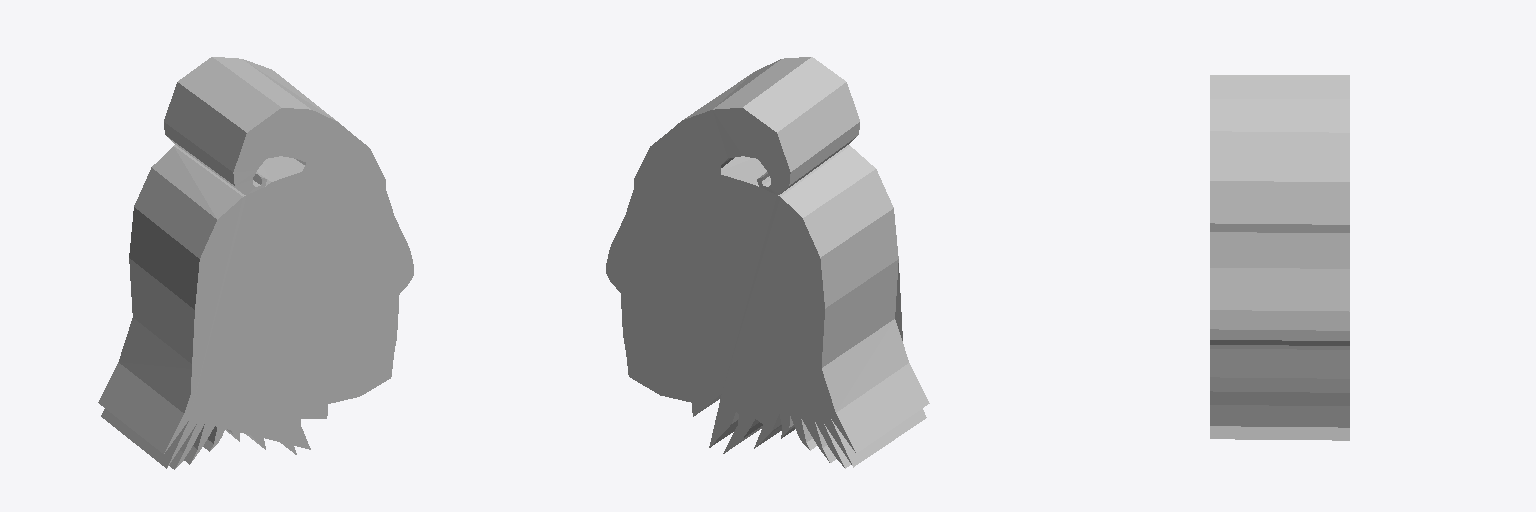
File: jesterHead.obj
3 views of the same model, side by side, from view 1: azimuth 30°, elevation 25°; view 2: azimuth 150°, elevation 25°; view 3: azimuth 270°, elevation 25° (orthographic).
Visible parts, largest first — view 1: Cube.001_Cube.004; view 2: Cube.001_Cube.004; view 3: Cube.001_Cube.004.
Part boxes in pixels (left/top/right/bottom): Cube.001_Cube.004: left=98, top=57, right=413, bottom=469; Cube.001_Cube.004: left=606, top=57, right=929, bottom=468; Cube.001_Cube.004: left=1210, top=75, right=1349, bottom=440.
Bounding box in the file's own units: 0.5686 × 0.7537 × 0.2706.